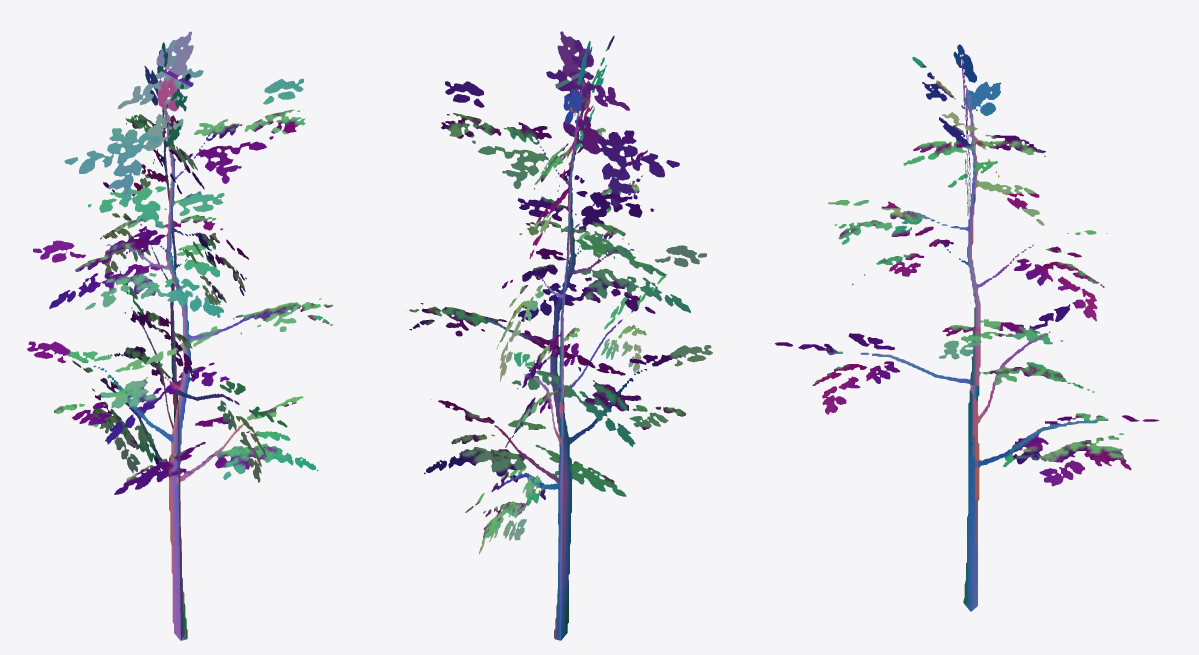
Rendered from beech_tree_00_A_cross.FBX.
The picture shows the model from 3 angles, left to right: view 1: azimuth 30°, elevation 25°; view 2: azimuth 150°, elevation 25°; view 3: azimuth 270°, elevation 25°; orthographic projection. The views are drawn at different scales.
Parts seen in each view (by area): view 1: beech_tree_00_A_cross; view 2: beech_tree_00_A_cross; view 3: beech_tree_00_A_cross.
Part boxes in pixels (left/top/right/bottom): beech_tree_00_A_cross: left=27, top=31, right=333, bottom=640; beech_tree_00_A_cross: left=409, top=31, right=712, bottom=640; beech_tree_00_A_cross: left=775, top=44, right=1159, bottom=611.
Size of the model in its own units: 1913 by 3288 by 2270.
